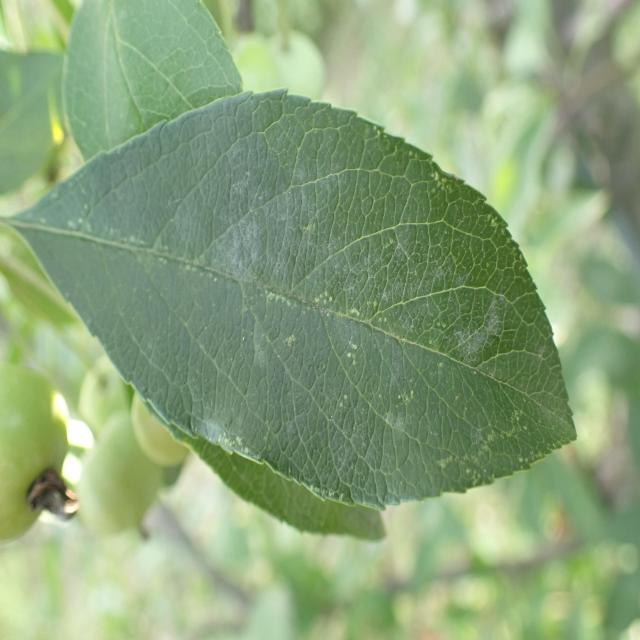Powdery_mildew: (49, 76, 576, 500)
